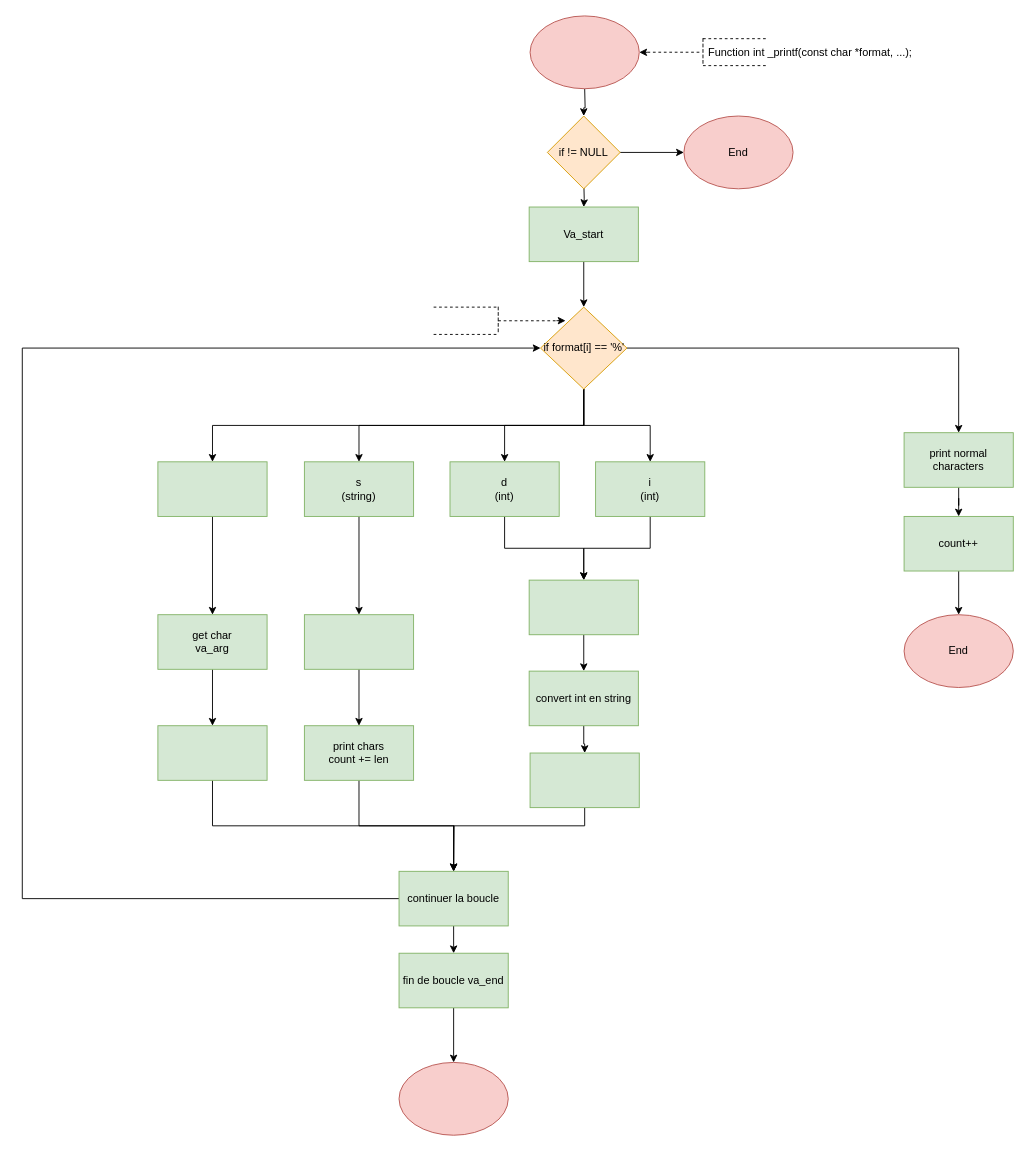
This 1029x1151 diagram has some shape labels left out. The centre of each missing label's shape, as x and y in pixels:
"c (char)" belongs at (212,488).
"get int va_arg" belongs at (583,607).
"get string va_arg" belongs at (358,641).
"print char count++" belongs at (212,752).
"print digit count += digit" belongs at (584,780).
"Return tous les prints" belongs at (453,1098).
"Start" belongs at (584,52).
